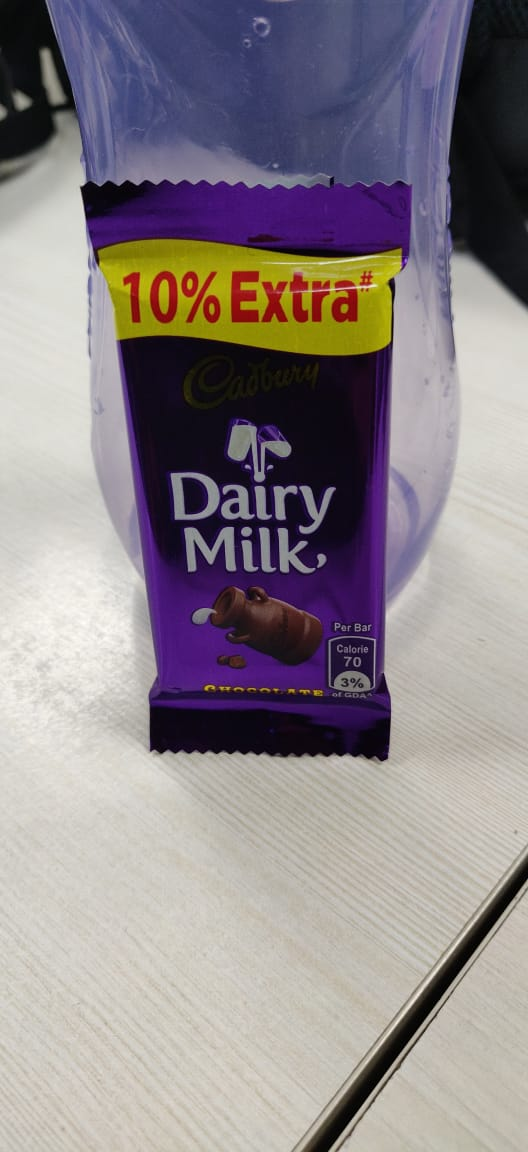dairy milk: (69, 170, 440, 786)
